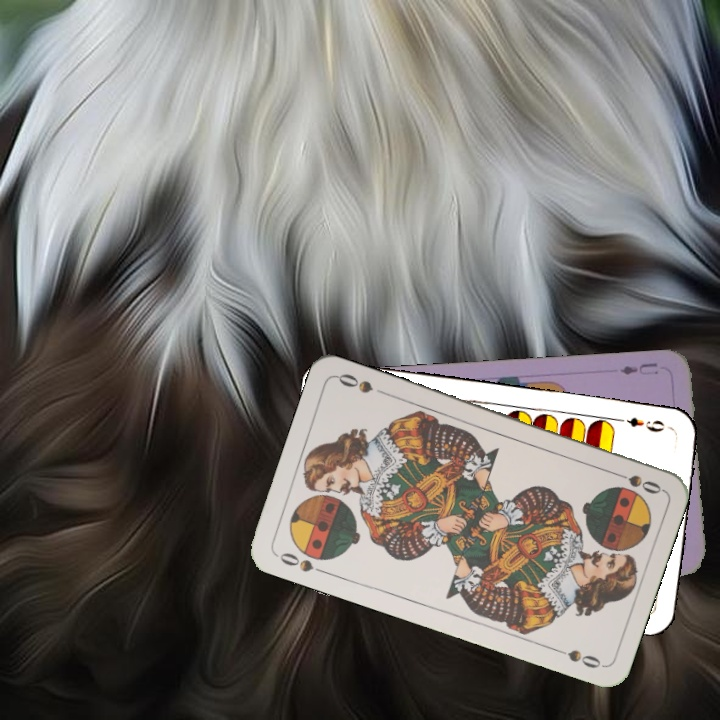E9: (614, 413, 667, 435)
EU: (615, 359, 661, 378)
SO: (607, 467, 665, 497), (272, 548, 330, 577)
